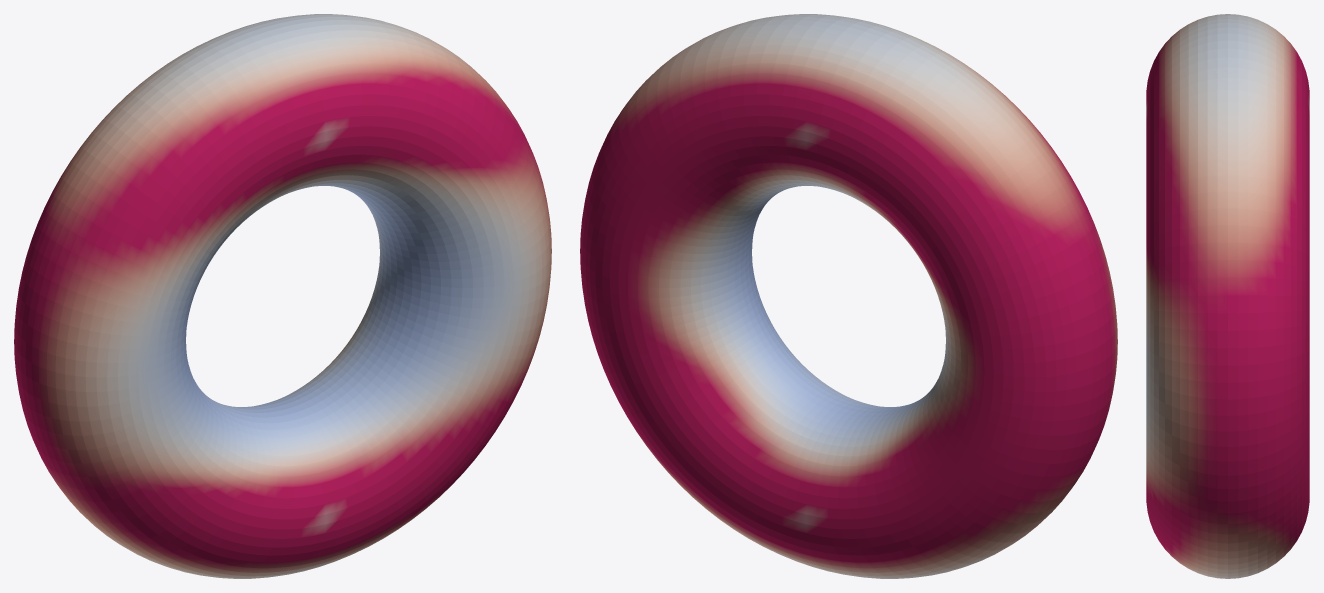
3 views of the same model, side by side, from view 1: azimuth 30°, elevation 25°; view 2: azimuth 150°, elevation 25°; view 3: azimuth 270°, elevation 25° (orthographic). The views are drawn at different scales.
Visible parts, largest first — view 1: world; view 2: world; view 3: world.
Part boxes in pixels (left/top/right/bottom): world: left=14, top=14, right=551, bottom=578; world: left=580, top=14, right=1117, bottom=578; world: left=1146, top=14, right=1309, bottom=578.
Bounding box in the file's own units: 26.27 × 26.27 × 7.59.
